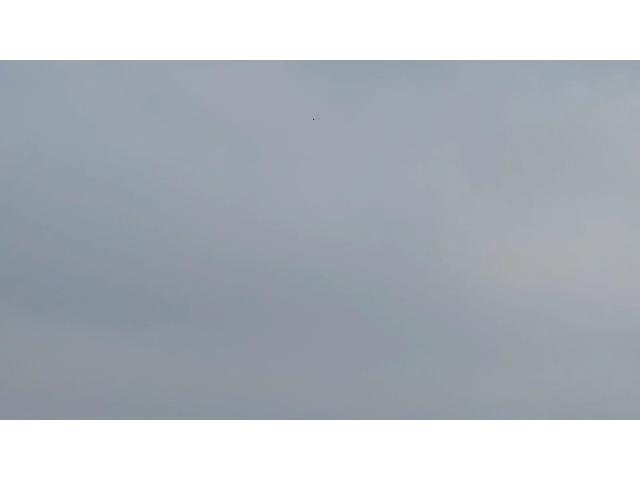Anti-Drone: (308, 117, 320, 121)
